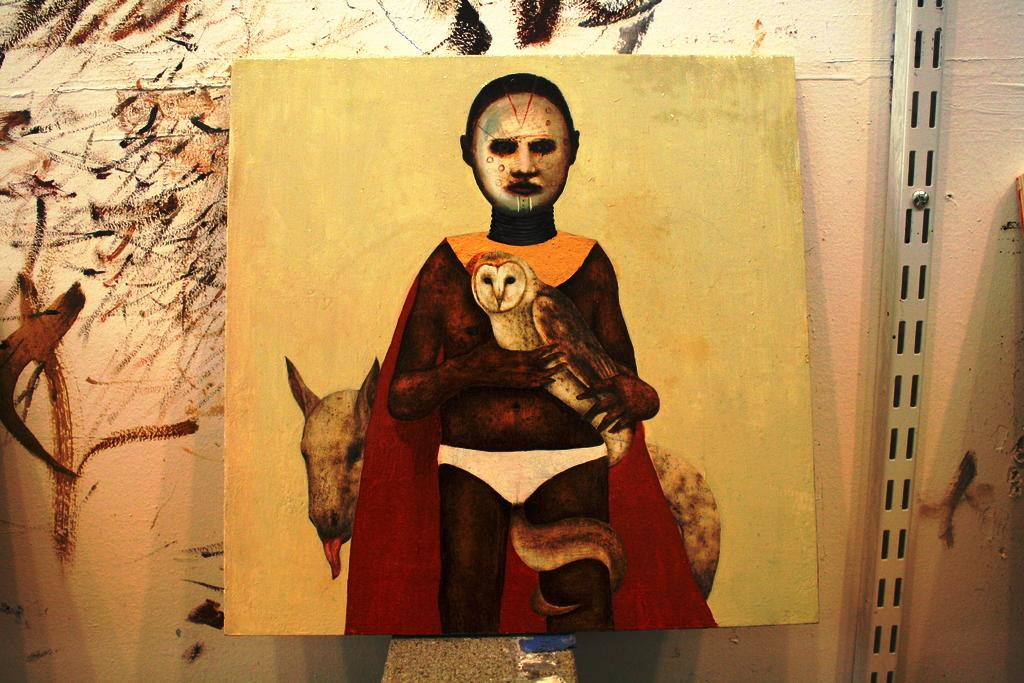Owl: (473, 245, 639, 465)
